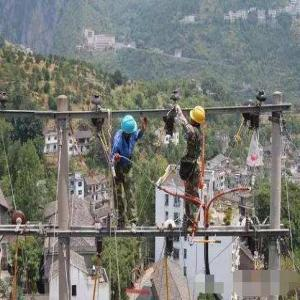blue: (121, 113, 136, 143)
yellow: (190, 105, 206, 131)
